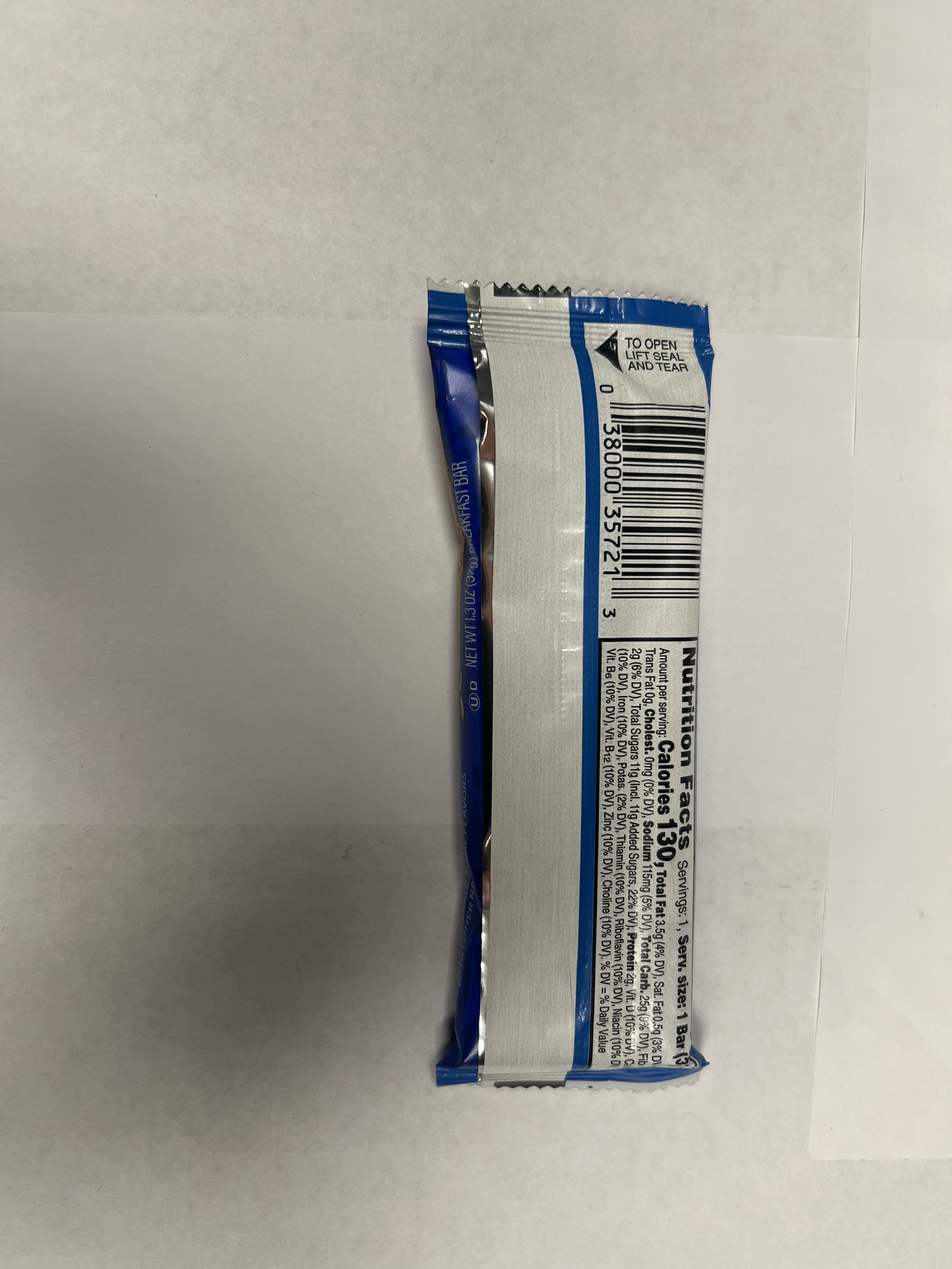packaged: (419, 275, 725, 1098)
